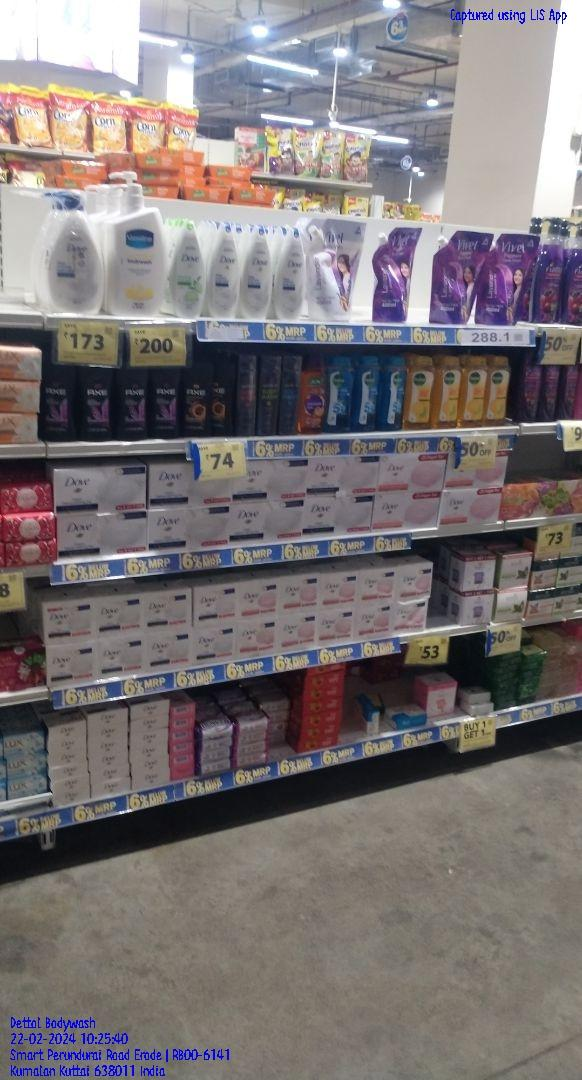Dettol_Bodywash_Cool: (354, 356, 379, 432), (329, 353, 352, 432), (382, 354, 402, 431)
Dettol_Bodywash_Refresh: (405, 354, 431, 429), (435, 357, 458, 429), (462, 353, 484, 428), (487, 355, 509, 425)
Dove_Deep_Moisture_Body_Wash_250ML: (274, 227, 306, 321), (239, 224, 270, 319), (208, 223, 238, 320)
Dove_Refreshing_Body_Wash_250ML: (170, 222, 206, 318)
Joy_Shower_Gel_Mandarin_and_Lemongrass_250ML: (297, 351, 328, 433)
